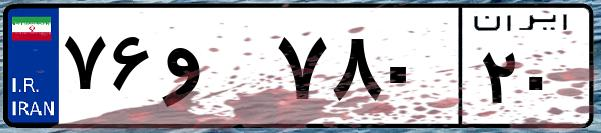0: (385, 28, 445, 110), (525, 38, 570, 115)
2: (475, 38, 525, 113)
6: (110, 28, 158, 98)
7: (270, 28, 330, 110), (57, 26, 110, 100)
8: (330, 28, 385, 110)
و: (158, 20, 270, 120)
